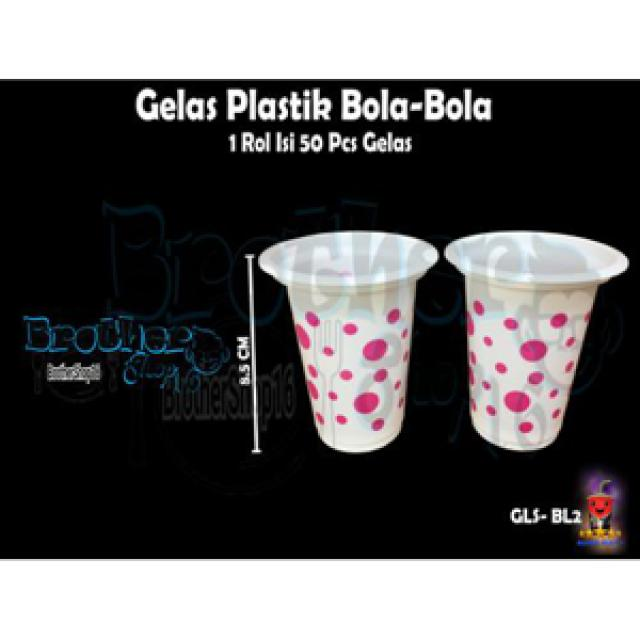plastic cup: (439, 224, 636, 465), (256, 224, 444, 461)
